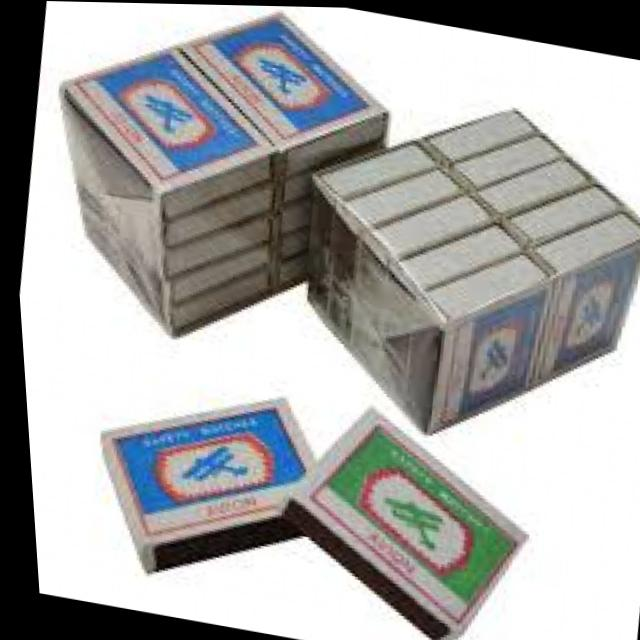match: (249, 387, 547, 640), (61, 360, 346, 609), (36, 22, 295, 216), (152, 3, 410, 193)
